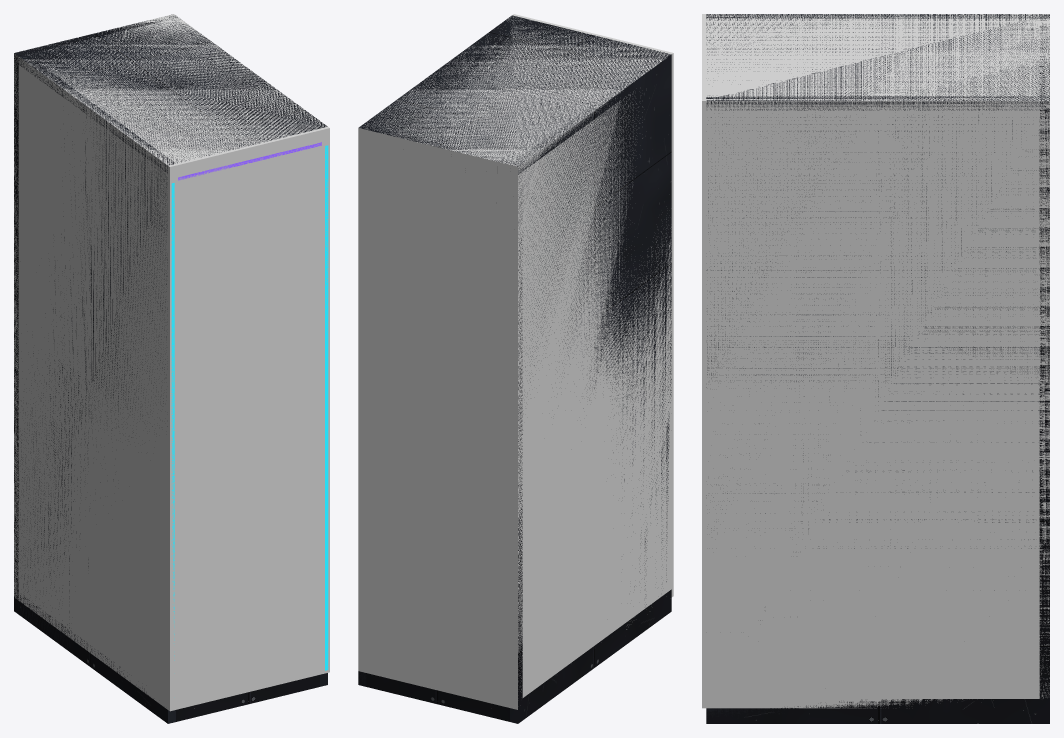
The model's file is Tech_ServerRack_B.gltf.
3 views of the same model, side by side, from view 1: azimuth 30°, elevation 25°; view 2: azimuth 150°, elevation 25°; view 3: azimuth 270°, elevation 25° (orthographic). The views are drawn at different scales.
Parts seen in each view (by area): view 1: Tech_ServerRack_B_COL, Tech_ServerRack_B; view 2: Tech_ServerRack_B_COL, Tech_ServerRack_B; view 3: Tech_ServerRack_B_COL, Tech_ServerRack_B.
Part boxes in pixels (<box>): Tech_ServerRack_B_COL: <box>14,14,329,711</box>; Tech_ServerRack_B: <box>14,14,328,723</box>; Tech_ServerRack_B_COL: <box>358,14,673,709</box>; Tech_ServerRack_B: <box>358,15,671,723</box>; Tech_ServerRack_B_COL: <box>702,14,1049,708</box>; Tech_ServerRack_B: <box>706,14,1049,723</box>.
Bounding box in the file's own units: 0.6 × 2 × 1.01.
9 materials, 2 textured.
